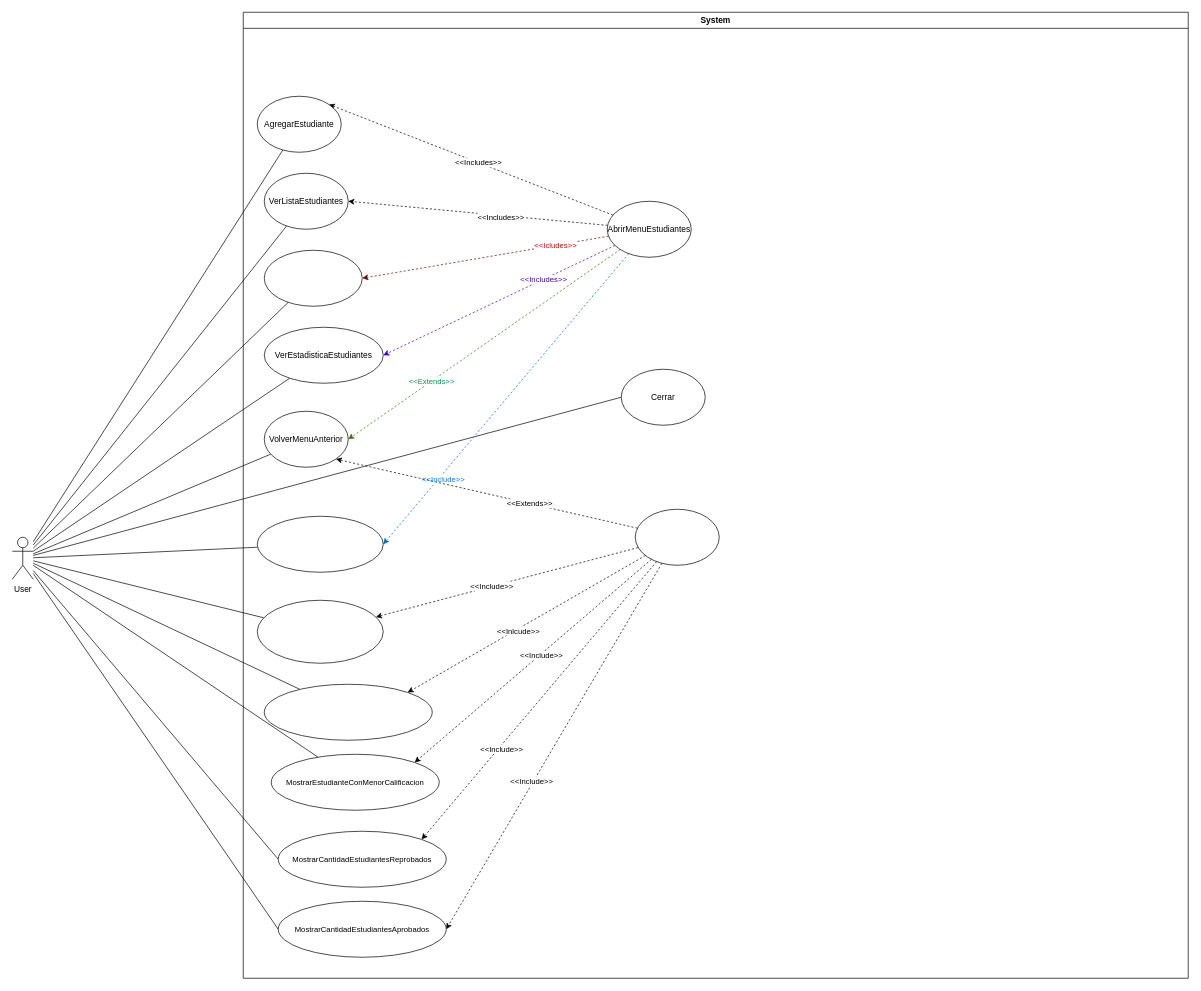
The diagram is 1201 pixels wide and 991 high, and some of its shapes have lost their labels. The centre of each missing label's shape, as x and y in pixels:
"AbrirMenuCurso" belongs at (x=677, y=537).
"AsignarCalificacionEsudiante" belongs at (x=320, y=544).
"MostrarEstudianteConMayorCalificacion" belongs at (x=348, y=712).
"MostrarPromedioGeneral" belongs at (x=320, y=631).
"VerPromedioEstudiante" belongs at (x=313, y=278).
